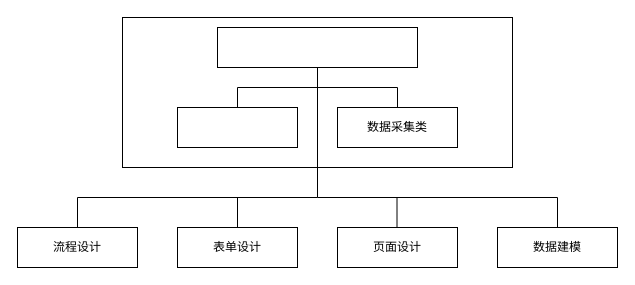
The diagram is 635 pixels wide and 285 high, and some of its shapes have lost their labels. The shapes that lost their labels are listed below. From the top down, each one's centre as x and y in pixels, then its label:
(317,47): 流程驱动类业务
(237,127): 管理信息化类
